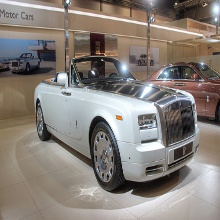no damage: (34, 53, 199, 191), (143, 62, 220, 121)
